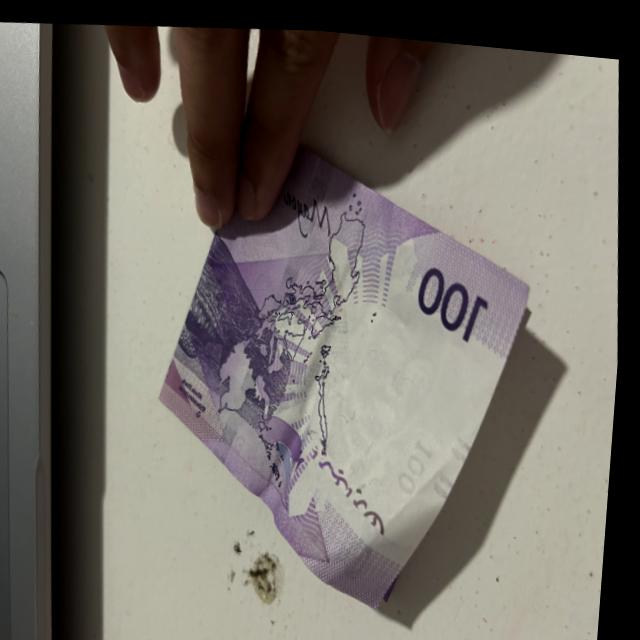100_whale: (181, 260, 240, 380)
100_whale_watermark: (253, 398, 317, 468)
value_watermark: (396, 430, 439, 493)
